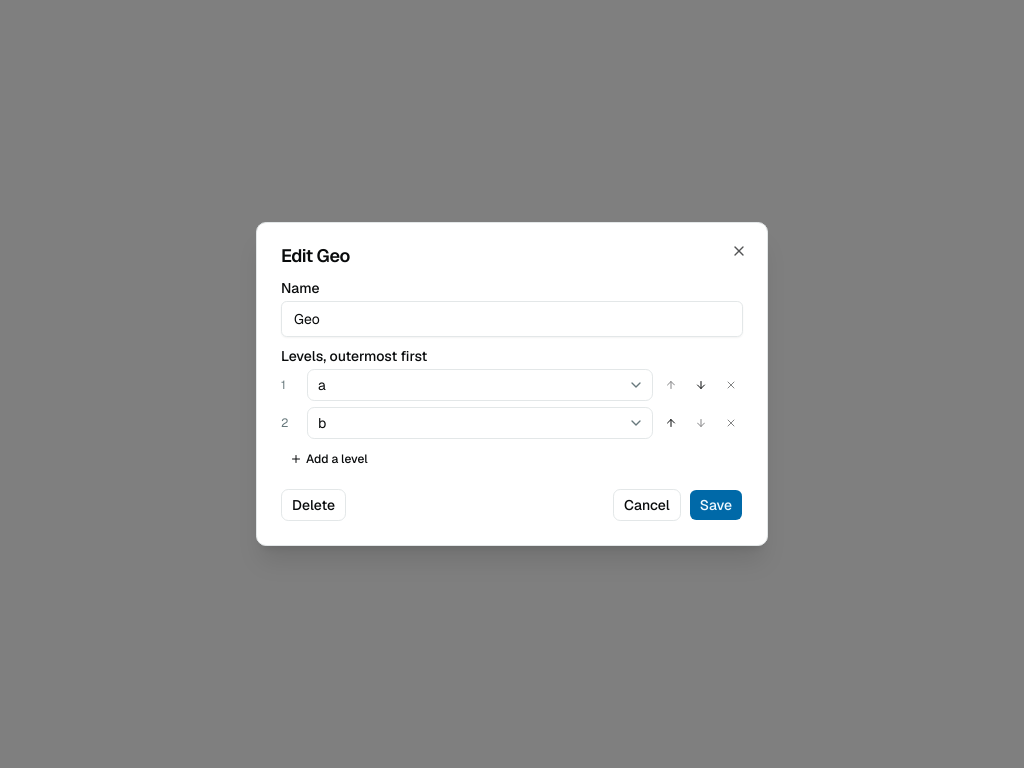
Test case: HierarchyDialog › shows a refusal as the server's own sentence
What coordinates should you click on to do the following:
click the button "Save"
I would click on:
 (716, 505)
Its box is [689,489,743,521].
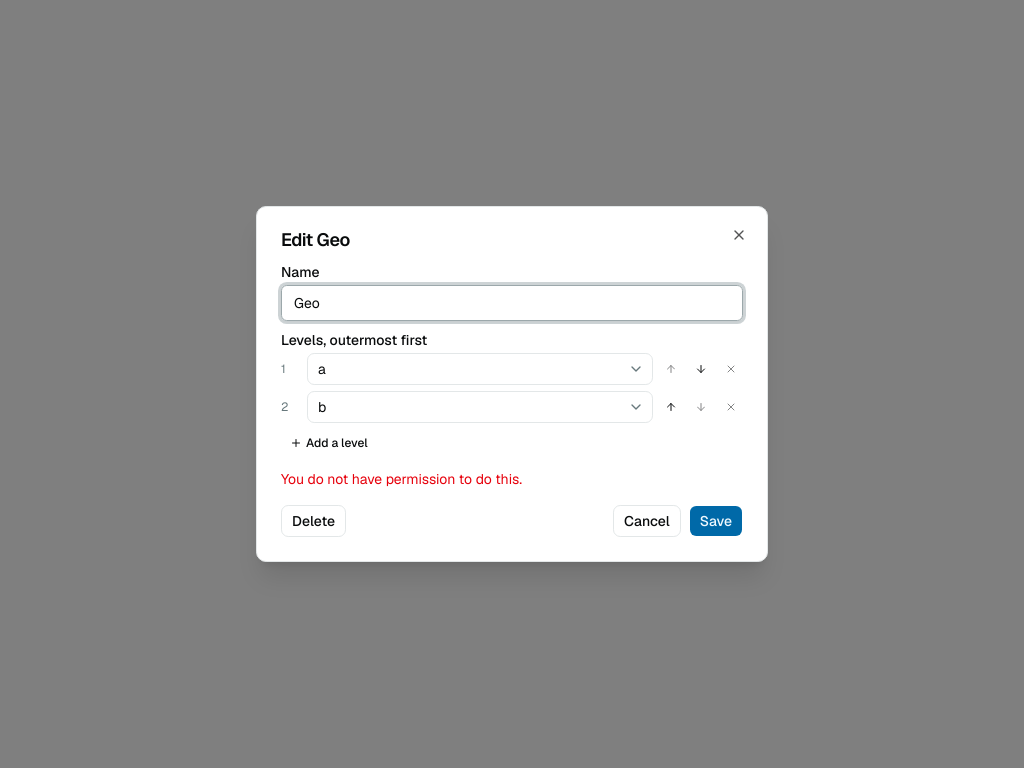
Check: the message shows "permission", box [281,470,522,488]
